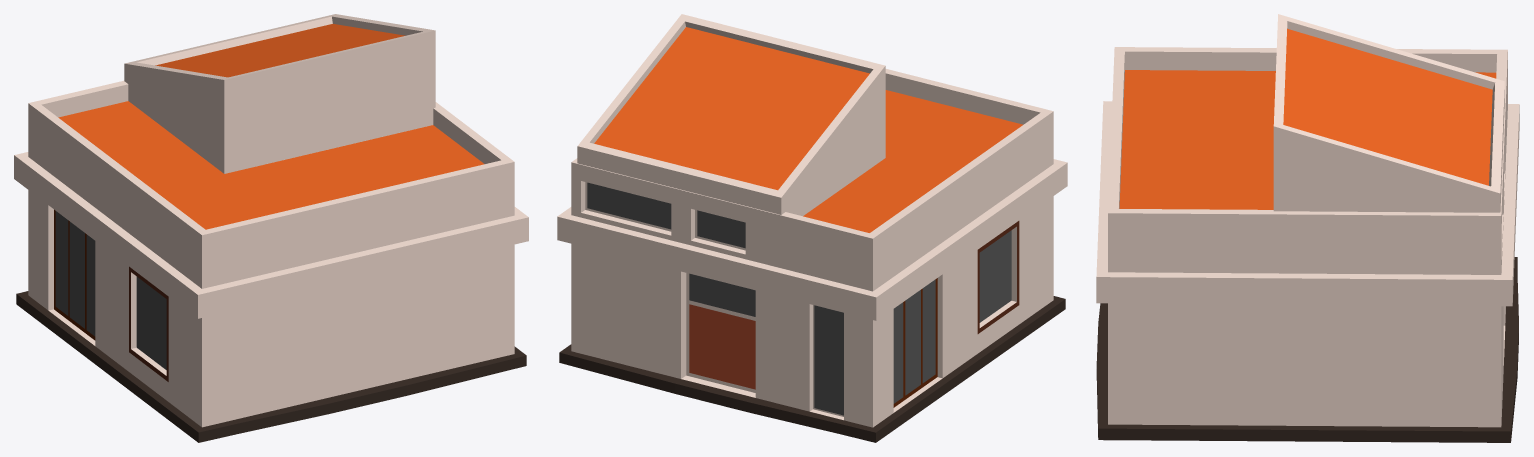
The picture shows the model from 3 angles, left to right: view 1: azimuth 30°, elevation 25°; view 2: azimuth 150°, elevation 25°; view 3: azimuth 270°, elevation 25°; orthographic projection. The views are drawn at different scales.
Parts seen in each view (by area): view 1: Object_372; view 2: Object_372; view 3: Object_372.
Boxes of the visible parts, bbox=[...] form: Object_372: bbox=[14, 14, 528, 442]; Object_372: bbox=[557, 14, 1067, 442]; Object_372: bbox=[1096, 14, 1519, 442].
Size of the model in its own units: 0.8584 by 0.689 by 0.8584.
1 material, 1 textured.
